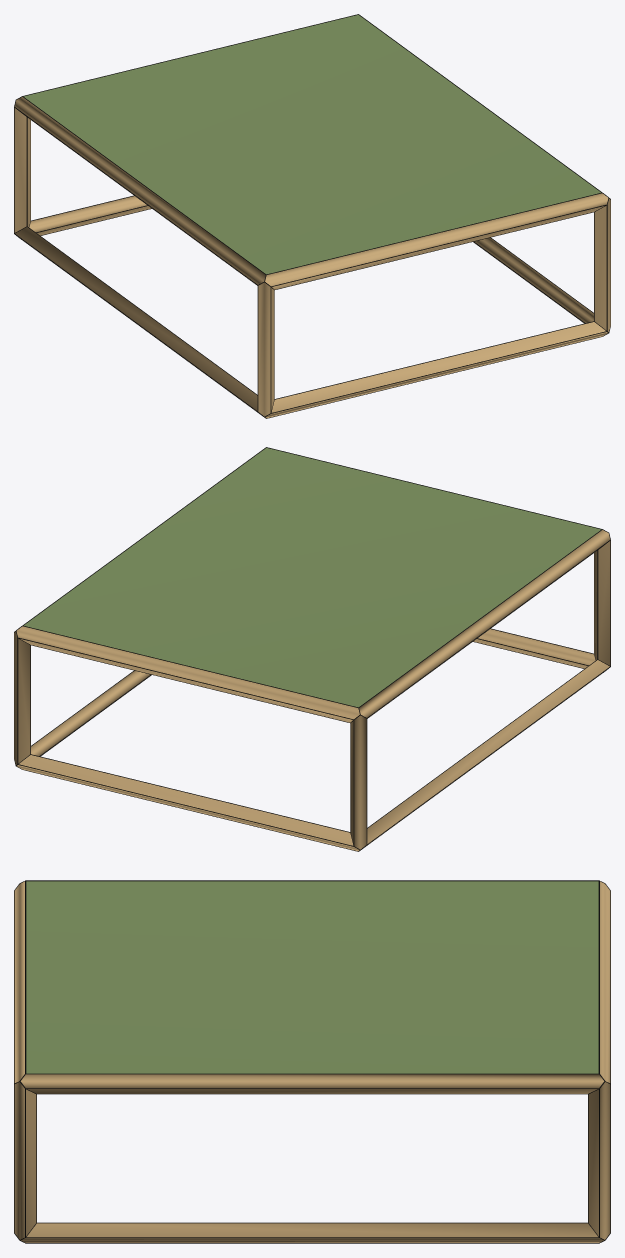
The model's file is table-basse-grande.glb.
3 views of the same model, one above another, from view 1: azimuth 30°, elevation 25°; view 2: azimuth 150°, elevation 25°; view 3: azimuth 270°, elevation 25° (orthographic). The views are drawn at different scales.
Parts seen in each view (by area): view 1: panneau-dessus_exterieur, arete-X2, arete-X0, arete-Y2, arete-Y0, arete-Z0, arete-Z1, arete-Z2, arete-X1, arete-Y1, arete-wire-X0, arete-wire-X2 (+4 smaller); view 2: panneau-dessus_exterieur, arete-X3, arete-X1, arete-Y2, arete-Y0, arete-Z2, arete-Z3, arete-Z0, arete-X0, arete-Y1, arete-wire-X1, arete-wire-X3 (+4 smaller); view 3: panneau-dessus_exterieur, arete-Y3, arete-Y1, arete-Z1, arete-Z3, arete-wire-Y1, arete-wire-Y3, arete-X2, arete-X3, panneau-wire-dessus_exterieur, arete-wire-Y2.
Boxes of the visible parts, x1,y1,x2,y2 form: panneau-dessus_exterieur: [23, 15, 600, 274]; arete-X2: [265, 193, 608, 289]; arete-X0: [265, 322, 607, 418]; arete-Y2: [14, 97, 265, 284]; arete-Y0: [15, 227, 257, 410]; arete-Z0: [258, 282, 274, 416]; arete-Z1: [594, 198, 610, 331]; arete-Z2: [14, 108, 30, 232]; arete-X1: [29, 196, 151, 235]; arete-Y1: [474, 238, 593, 322]; arete-wire-X0: [264, 321, 608, 418]; arete-wire-X2: [264, 192, 608, 289]; panneau-dessus_exterieur: [24, 448, 601, 707]; arete-X3: [16, 626, 359, 722]; arete-X1: [17, 755, 359, 851]; arete-Y2: [359, 530, 610, 717]; arete-Y0: [367, 660, 609, 843]; arete-Z2: [350, 715, 366, 849]; arete-Z3: [14, 631, 30, 764]; arete-Z0: [594, 541, 610, 665]; arete-X0: [473, 629, 595, 668]; arete-Y1: [31, 671, 150, 755]; arete-wire-X1: [16, 754, 360, 851]; arete-wire-X3: [16, 625, 358, 722]; panneau-dessus_exterieur: [26, 881, 598, 1073]; arete-Y3: [20, 1074, 604, 1093]; arete-Y1: [21, 1223, 603, 1242]; arete-Z1: [14, 1082, 36, 1239]; arete-Z3: [588, 1082, 610, 1239]; arete-wire-Y1: [19, 1222, 605, 1243]; arete-wire-Y3: [25, 1073, 604, 1094]; arete-X2: [14, 881, 24, 1082]; arete-X3: [600, 881, 610, 1082]; panneau-wire-dessus_exterieur: [25, 880, 599, 1073]; arete-wire-Y2: [25, 880, 604, 883].
Bounding box in the file's own units: 1.23 × 0.4809 × 1.53.
